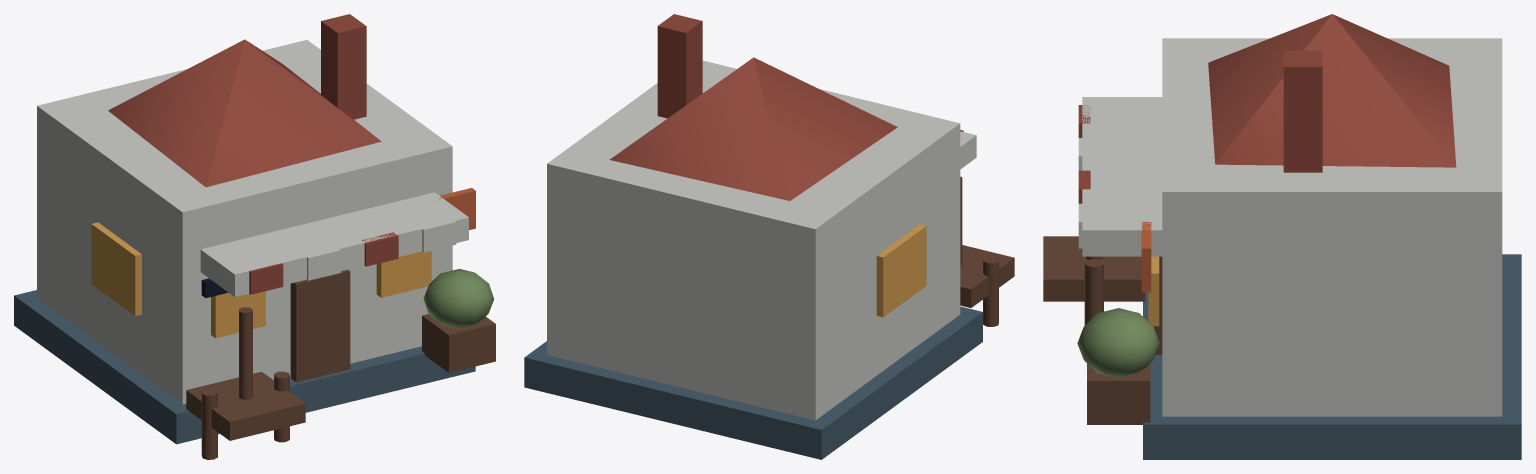
File: cafe-corner.glb
The picture shows the model from 3 angles, left to right: view 1: azimuth 30°, elevation 25°; view 2: azimuth 150°, elevation 25°; view 3: azimuth 270°, elevation 25°; orthographic projection. The views are drawn at different scales.
Visible parts, largest first — view 1: CafeShell; view 2: CafeShell; view 3: CafeShell.
Part boxes in pixels (box(x1,y1,x2,y2)): CafeShell: box(14, 14, 495, 459); CafeShell: box(524, 14, 1014, 459); CafeShell: box(1043, 14, 1521, 459).
Size of the model in its own units: 1.68 by 1.66 by 1.97.
